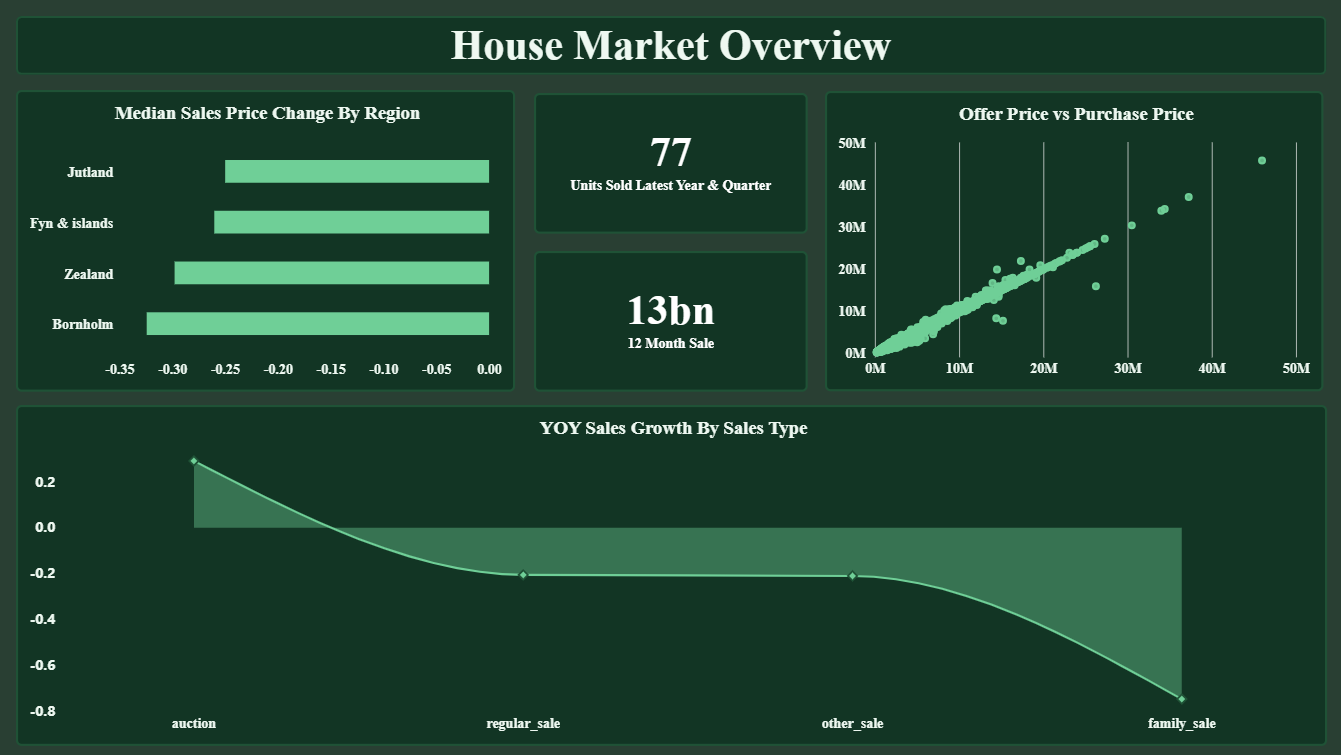

What the dashboard file says about the page in this screenshot:
{"tool":"powerbi","page":{"name":"House Market Overview","canvas":[1920,1080],"ordinal":0},"visuals":[{"type":"shape","box":[24,24,1872,84],"z":0},{"type":"lineChart","title":"YOY Sales Growth By Sales Type","fields":{"Category":["Housing Data.sales_type"],"Y":["Housing Data.YOY_Sales_Growth"]},"box":[24.8,580.3,1872.7,486.8],"z":1000},{"type":"scatterChart","title":"Offer Price vs Purchase Price","fields":{"X":["Housing Data.Offer_Price"],"Y":["Housing Data.purchase_price"]},"box":[1180,131,712,428.6],"z":2000},{"type":"barChart","title":"Median Sales Price Change By Region","fields":{"Category":["Housing Data.region"],"Y":["Housing Data.Median_Sales_Price_Change"]},"box":[24,130,712.9,431.4],"z":3000},{"type":"cardVisual","fields":{"Data":["Housing Data.Units_Sold_Latest_Year_&_Quarter"]},"box":[764.3,134.3,391.2,201],"z":4000},{"type":"cardVisual","fields":{"Data":["Housing Data.Last_12_Month_Sale"]},"box":[764,360,391.2,201],"z":5000}]}

Visuals, with their boxes in screenshot pixels (x1, y1, x2, y2), scaled from the page's 1920x1080 canvas onto the 1341x755 screenshot:
shape: 17/17/1324/76
"YOY Sales Growth By Sales Type" lineChart: 17/406/1325/746
"Offer Price vs Purchase Price" scatterChart: 824/92/1321/391
"Median Sales Price Change By Region" barChart: 17/91/515/392
cardVisual - Housing Data.Units_Sold_Latest_Year_&_Quarter: 534/94/807/234
cardVisual - Housing Data.Last_12_Month_Sale: 534/252/807/392
